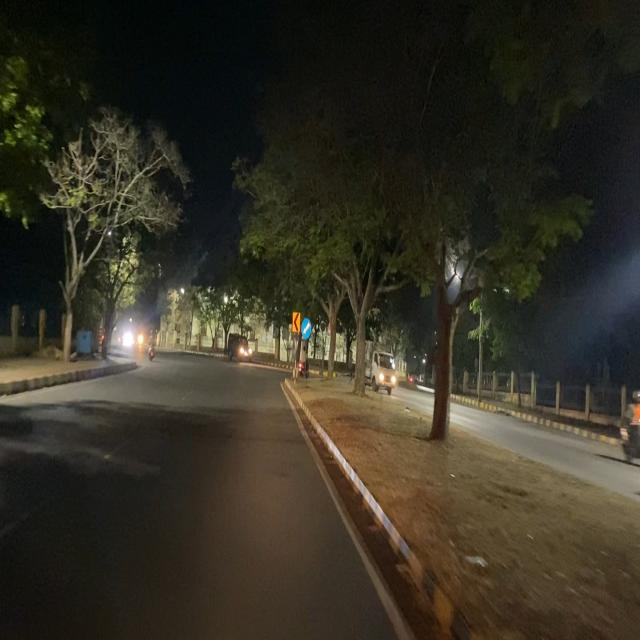bien_cam: (301, 317, 312, 341)
